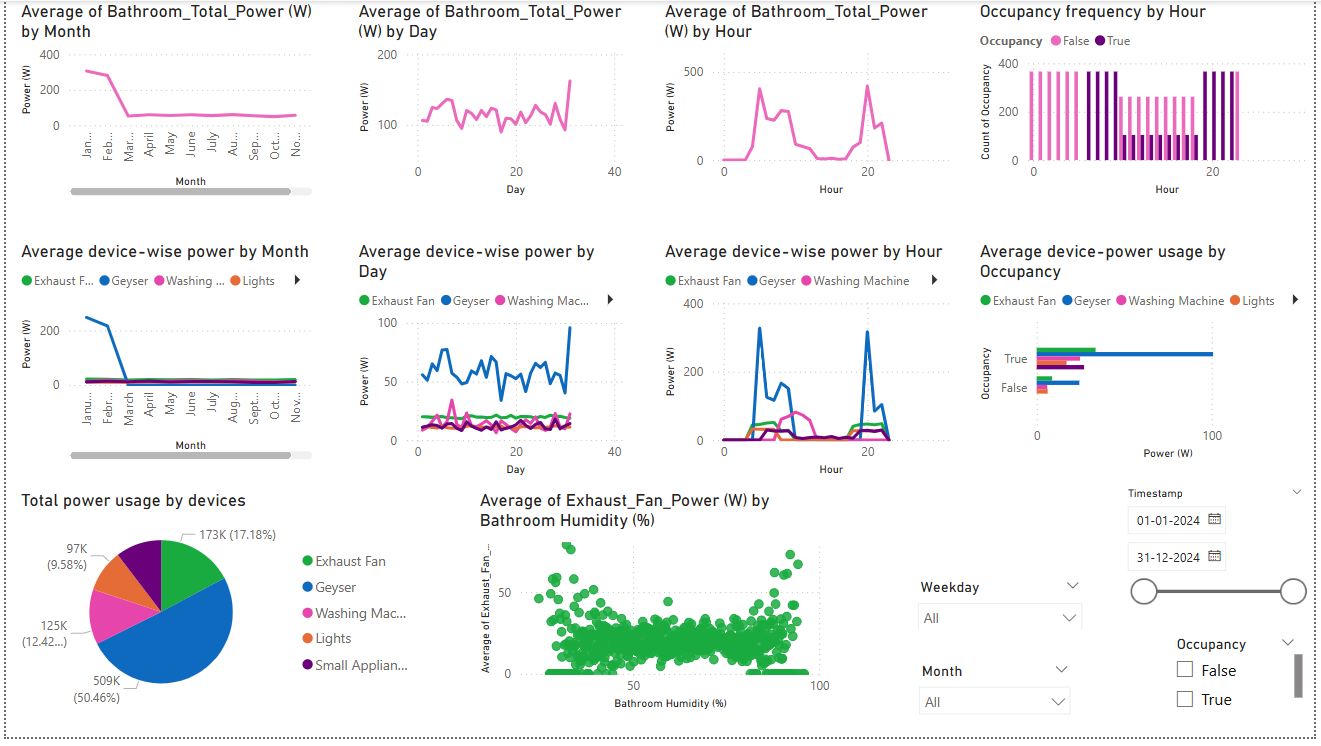

Layout of this report page (visuals, bound fields, positions):
{"tool":"powerbi","page":{"name":"Bathroom 1","canvas":[1280,720],"ordinal":4},"visuals":[{"type":"pieChart","title":"Total power usage by devices","fields":{"Y":["Sum(Sheet1 (3).Exhaust_Fan_Power (W))","Sum(Sheet1 (3).Geyser_Power (W))","Sum(Sheet1 (3).Washing_Machine_Power (W))","Sum(Sheet1 (3).Lights_Power (W))","Sum(Sheet1 (3).Small_Appliances_Power (W))"]},"box":[9.8,478.1,403.5,220.1],"z":0},{"type":"slicer","fields":{"Values":["Sheet1 (3).Timestamp.Variation.Date Hierarchy.Month"]},"box":[882.9,642,168.8,78.3],"z":1000},{"type":"slicer","fields":{"Values":["Sheet1 (3).Occupancy"]},"box":[1132.3,615.1,140.6,83.2],"z":2000},{"type":"lineChart","fields":{"Category":["Bathroom 1.Timestamp.Variation.Date Hierarchy.Month","Bathroom 1.Timestamp.Variation.Date Hierarchy.Day"],"Y":["Avg(Bathroom 1.Bathroom_Total_Power (W))"]},"box":[9.8,0,294.7,195.7],"z":3000},{"type":"lineChart","fields":{"Category":["Bathroom 1.Timestamp.Variation.Date Hierarchy.Day"],"Y":["Avg(Bathroom 1.Bathroom_Total_Power (W))"]},"box":[339.9,0,270.2,195.7],"z":4000},{"type":"lineChart","fields":{"Y":["Avg(Bathroom 1.Bathroom_Total_Power (W))"],"Category":["Bathroom 1.Hour"]},"box":[639.5,0,288.6,195.7],"z":5000},{"type":"lineChart","title":"Average device-wise power by Month","fields":{"Category":["Bathroom 1.Timestamp.Variation.Date Hierarchy.Month","Bathroom 1.Timestamp.Variation.Date Hierarchy.Day"],"Y":["Avg(Bathroom 1.Exhaust_Fan_Power (W))","Avg(Bathroom 1.Geyser_Power (W))","Avg(Bathroom 1.Washing_Machine_Power (W))","Avg(Bathroom 1.Lights_Power (W))","Avg(Bathroom 1.Small_Appliances_Power (W))"]},"box":[9.8,234.8,294.7,218.9],"z":6000},{"type":"lineChart","title":"Average device-wise power by Day","fields":{"Category":["Bathroom 1.Timestamp.Variation.Date Hierarchy.Day"],"Y":["Avg(Bathroom 1.Exhaust_Fan_Power (W))","Avg(Bathroom 1.Geyser_Power (W))","Avg(Bathroom 1.Washing_Machine_Power (W))","Avg(Bathroom 1.Lights_Power (W))","Avg(Bathroom 1.Small_Appliances_Power (W))"]},"box":[339.9,234.8,270.2,234.8],"z":7000},{"type":"lineChart","title":"Average device-wise power by Hour","fields":{"Y":["Avg(Bathroom 1.Exhaust_Fan_Power (W))","Avg(Bathroom 1.Geyser_Power (W))","Avg(Bathroom 1.Washing_Machine_Power (W))","Avg(Bathroom 1.Lights_Power (W))","Avg(Bathroom 1.Small_Appliances_Power (W))"],"Category":["Bathroom 1.Hour"]},"box":[639.5,234.8,288.6,234.8],"z":8000},{"type":"clusteredColumnChart","title":"Occupancy frequency by Hour","fields":{"Category":["Bathroom 1.Hour"],"Y":["CountNonNull(Bathroom 1.Occupancy)"],"Series":["Bathroom 1.Occupancy"]},"box":[947.7,0,332.6,195.7],"z":9000},{"type":"clusteredBarChart","title":"Average device-power usage by Occupancy","fields":{"Category":["Bathroom 1.Occupancy"],"Y":["Avg(Bathroom 1.Exhaust_Fan_Power (W))","Avg(Bathroom 1.Geyser_Power (W))","Avg(Bathroom 1.Washing_Machine_Power (W))","Avg(Bathroom 1.Lights_Power (W))","Avg(Bathroom 1.Small_Appliances_Power (W))"]},"box":[947.7,234.8,332.6,218.9],"z":10000},{"type":"scatterChart","title":"Average of Exhaust_Fan_Power (W) by Bathroom Humidity (%)","fields":{"X":["Bathroom 1.Bathroom2 Humidity (%)"],"Y":["Avg(Bathroom 1.Exhaust_Fan_Power (W))"]},"box":[458.6,478.1,352.2,220.1],"z":11000},{"type":"slicer","fields":{"Values":["Bathroom 1.Timestamp"]},"box":[1084.7,469.6,195.7,137],"z":11001},{"type":"slicer","fields":{"Values":["Bathroom 1.Weekday"]},"box":[881.7,560.1,181,55],"z":11002}]}

Visuals, with their boxes in screenshot pixels (x1, y1, x2, y2), scaled from the page's 1280x720 canvas onto the 1321x746 screenshot:
"Total power usage by devices" pieChart: l=10, t=495, r=427, b=723
slicer - Sheet1 (3).Timestamp.Variation.Date Hierarchy.Month: l=911, t=665, r=1085, b=745
slicer - Sheet1 (3).Occupancy: l=1169, t=637, r=1314, b=724
lineChart - Bathroom 1.Timestamp.Variation.Date Hierarchy.Month x Bathroom 1.Timestamp.Variation.Date Hierarchy.Day: l=10, t=0, r=314, b=203
lineChart - Bathroom 1.Timestamp.Variation.Date Hierarchy.Day x Avg(Bathroom 1.Bathroom_Total_Power (W)): l=351, t=0, r=630, b=203
lineChart - Avg(Bathroom 1.Bathroom_Total_Power (W)) x Bathroom 1.Hour: l=660, t=0, r=958, b=203
"Average device-wise power by Month" lineChart: l=10, t=243, r=314, b=470
"Average device-wise power by Day" lineChart: l=351, t=243, r=630, b=487
"Average device-wise power by Hour" lineChart: l=660, t=243, r=958, b=487
"Occupancy frequency by Hour" clusteredColumnChart: l=978, t=0, r=1320, b=203
"Average device-power usage by Occupancy" clusteredBarChart: l=978, t=243, r=1320, b=470
"Average of Exhaust_Fan_Power (W) by Bathroom Humidity (%)" scatterChart: l=473, t=495, r=837, b=723
slicer - Bathroom 1.Timestamp: l=1119, t=487, r=1320, b=629
slicer - Bathroom 1.Weekday: l=910, t=580, r=1097, b=637
